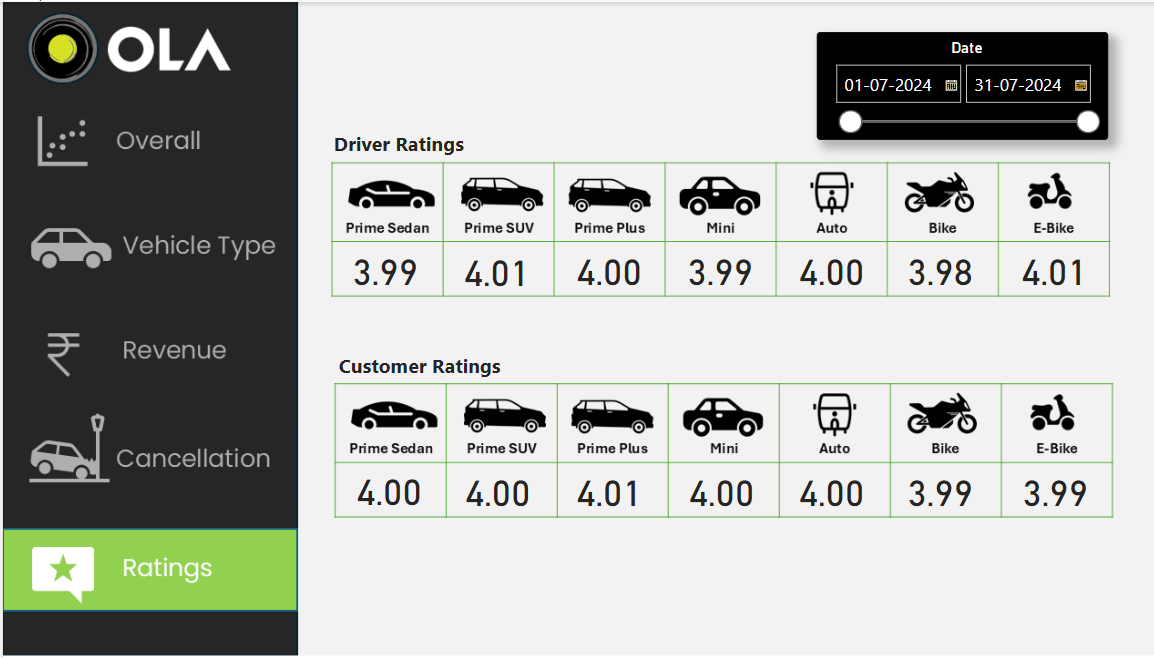

Layout of this report page (visuals, bound fields, positions):
{"tool":"powerbi","page":{"name":"Ratings","canvas":[1280,720],"ordinal":4},"visuals":[{"type":"actionButton","box":[0,337.8,325.7,89.3],"z":0},{"type":"actionButton","box":[0,460.9,325.7,89.3],"z":1000},{"type":"actionButton","box":[0,114.6,325.7,89.3],"z":2000},{"type":"actionButton","box":[0,223.2,325.7,89.3],"z":3000},{"type":"card","fields":{"Values":["Avg(July.Driver_Ratings)"]},"box":[367,266,107.1,54.3],"z":4000},{"type":"card","fields":{"Values":["Avg(July.Driver_Ratings)"]},"box":[488.6,267.1,107.1,54.3],"z":5000},{"type":"card","fields":{"Values":["Avg(July.Driver_Ratings)"]},"box":[611.4,265.7,107.1,54.3],"z":6000},{"type":"card","fields":{"Values":["Avg(July.Driver_Ratings)"]},"box":[734.3,265.7,107.1,54.3],"z":7000},{"type":"card","fields":{"Values":["Avg(July.Driver_Ratings)"]},"box":[855.7,265.7,107.1,54.3],"z":8000},{"type":"card","fields":{"Values":["Avg(July.Driver_Ratings)"]},"box":[975.7,265.7,107.1,54.3],"z":9000},{"type":"card","fields":{"Values":["Avg(July.Driver_Ratings)"]},"box":[1100,265.7,107.1,54.3],"z":10000},{"type":"textbox","box":[358.6,135.7,168.6,44.3],"z":11000},{"type":"textbox","box":[364,378.6,200,41.4],"z":12000},{"type":"card","fields":{"Values":["Avg(July.Customer_Rating)"]},"box":[371,508,107.1,54.3],"z":13000},{"type":"card","fields":{"Values":["Avg(July.Customer_Rating)"]},"box":[490,508.6,107.1,54.3],"z":14000},{"type":"card","fields":{"Values":["Avg(July.Customer_Rating)"]},"box":[611.4,508.6,107.1,54.3],"z":15000},{"type":"card","fields":{"Values":["Avg(July.Customer_Rating)"]},"box":[735.7,508.6,107.1,54.3],"z":16000},{"type":"card","fields":{"Values":["Avg(July.Customer_Rating)"]},"box":[855.7,508.6,107.1,54.3],"z":17000},{"type":"card","fields":{"Values":["Avg(July.Customer_Rating)"]},"box":[975.7,508.6,107.1,54.3],"z":18000},{"type":"card","fields":{"Values":["Avg(July.Customer_Rating)"]},"box":[1101.4,508.6,107.1,54.3],"z":19000},{"type":"slicer","title":"Date","fields":{"Values":["July.Date"]},"box":[893,33,320,118.6],"z":20000}]}

Visuals, with their boxes on the page's 1280x720 design canvas (x1, y1, x2, y2). These are canvas units, not pixel positions in the 1154x658 screenshot, which may show the page scaled, cropped or inside an application window:
actionButton: box(0, 338, 326, 427)
actionButton: box(0, 461, 326, 550)
actionButton: box(0, 115, 326, 204)
actionButton: box(0, 223, 326, 312)
card - Avg(July.Driver_Ratings): box(367, 266, 474, 320)
card - Avg(July.Driver_Ratings): box(489, 267, 596, 321)
card - Avg(July.Driver_Ratings): box(611, 266, 718, 320)
card - Avg(July.Driver_Ratings): box(734, 266, 841, 320)
card - Avg(July.Driver_Ratings): box(856, 266, 963, 320)
card - Avg(July.Driver_Ratings): box(976, 266, 1083, 320)
card - Avg(July.Driver_Ratings): box(1100, 266, 1207, 320)
textbox: box(359, 136, 527, 180)
textbox: box(364, 379, 564, 420)
card - Avg(July.Customer_Rating): box(371, 508, 478, 562)
card - Avg(July.Customer_Rating): box(490, 509, 597, 563)
card - Avg(July.Customer_Rating): box(611, 509, 718, 563)
card - Avg(July.Customer_Rating): box(736, 509, 843, 563)
card - Avg(July.Customer_Rating): box(856, 509, 963, 563)
card - Avg(July.Customer_Rating): box(976, 509, 1083, 563)
card - Avg(July.Customer_Rating): box(1101, 509, 1208, 563)
"Date" slicer: box(893, 33, 1213, 152)
